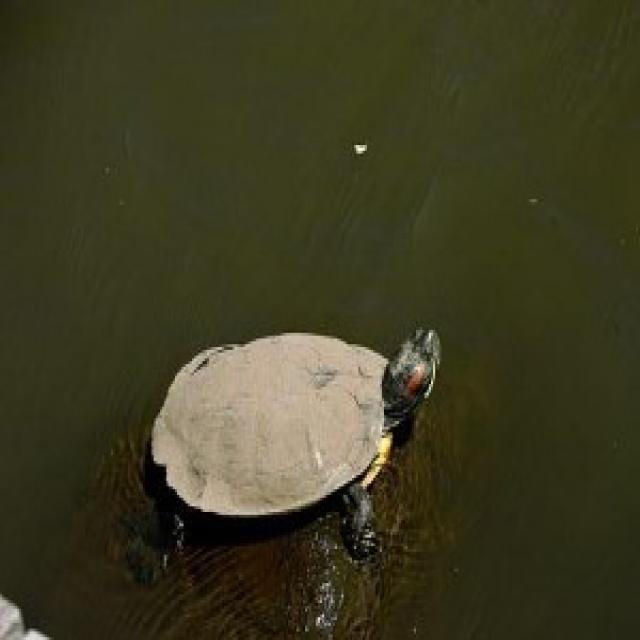Sea turtle: (141, 275, 476, 561)
